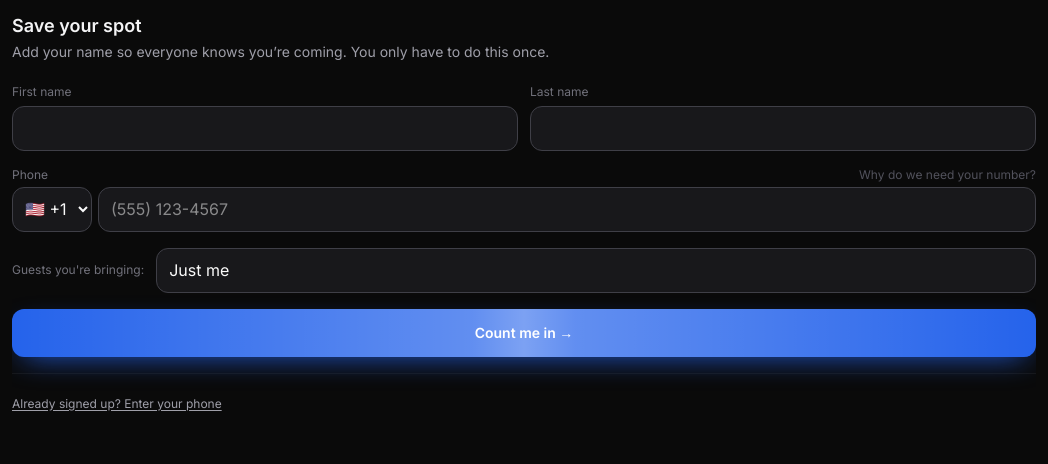
Test: JoinSection new user signup › validates phone before starting signup celebration
Type "Jeff" into the field labelled "First name".
click(265, 128); type("Jeff")  # box [12,106,518,151]
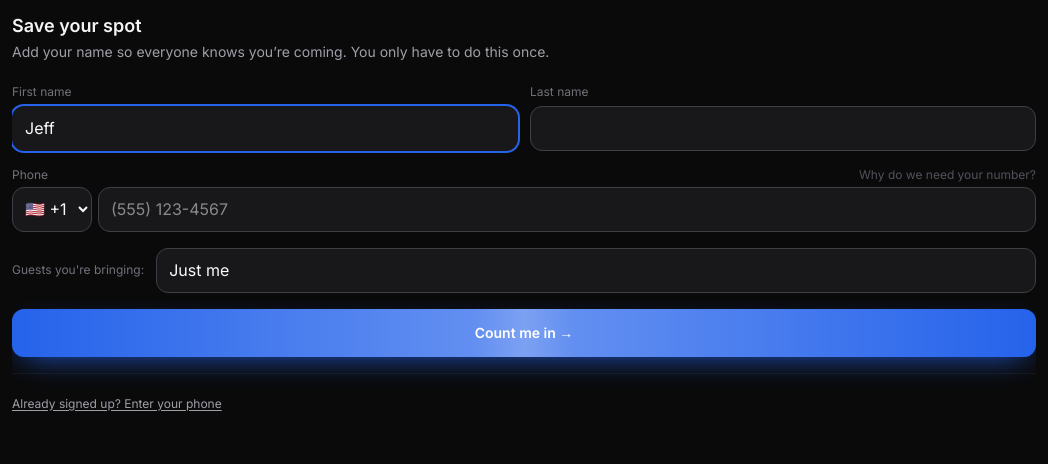
Type "Pickup" into the field labelled "Last name".
click(783, 128); type("Pickup")  # box [530,106,1036,151]
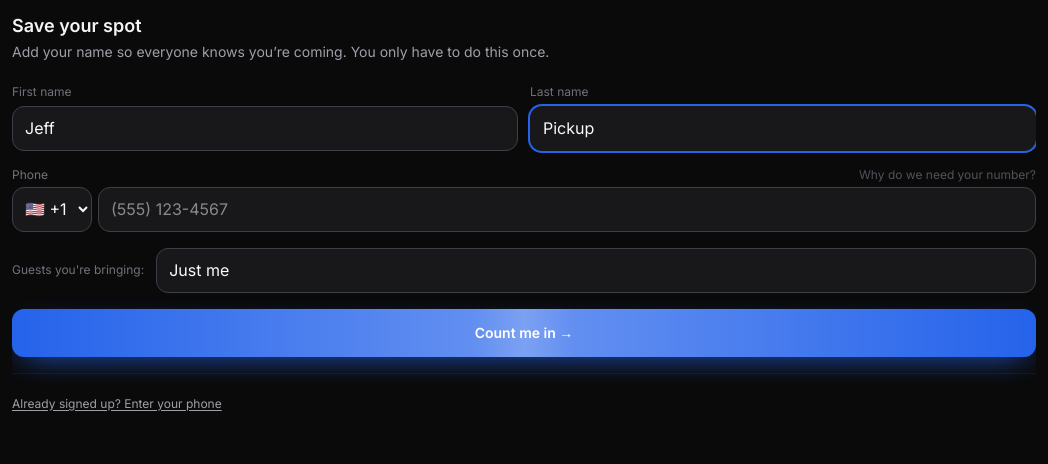
Type "123" into the field named "phone number".
click(567, 209); type("123")  # box [98,187,1036,232]
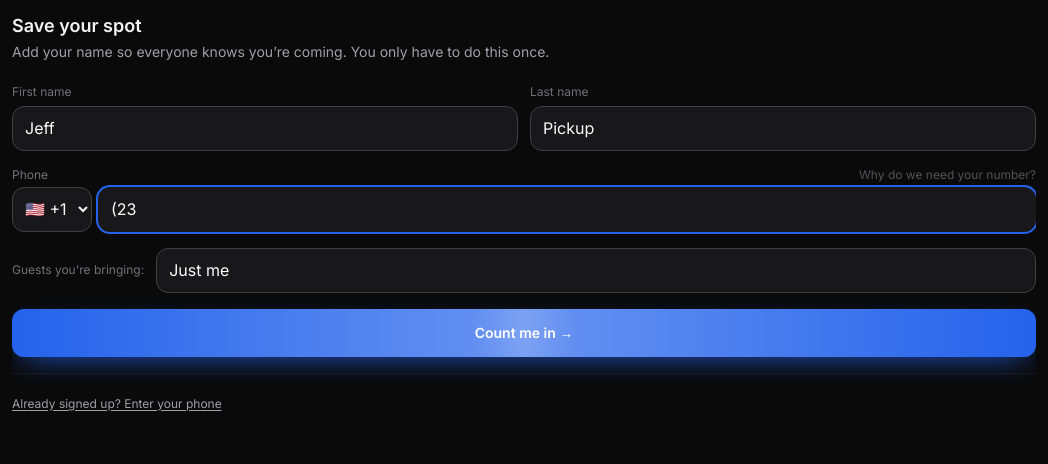
Click the button "Count me in →︎".
click(524, 332)  # box [12,308,1036,356]
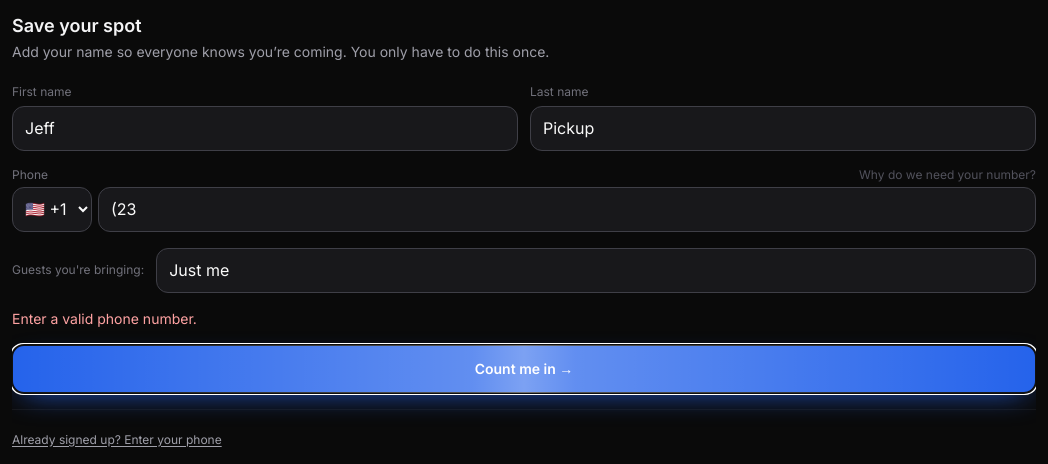
Check: the text "Enter a valid phone number." is shown, box [12,310,197,326]
